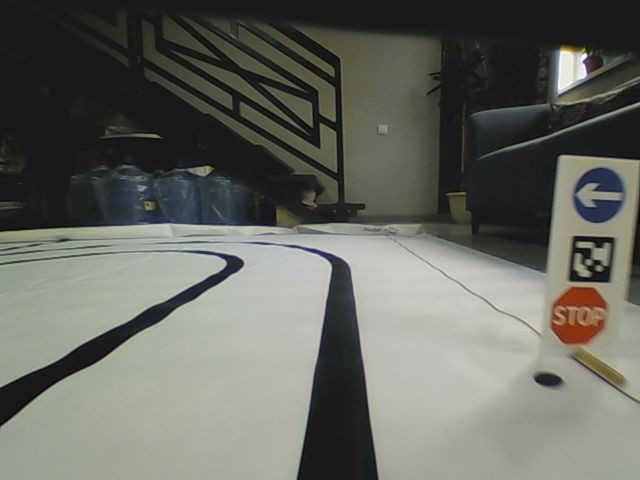Stop: (549, 286, 611, 350)
